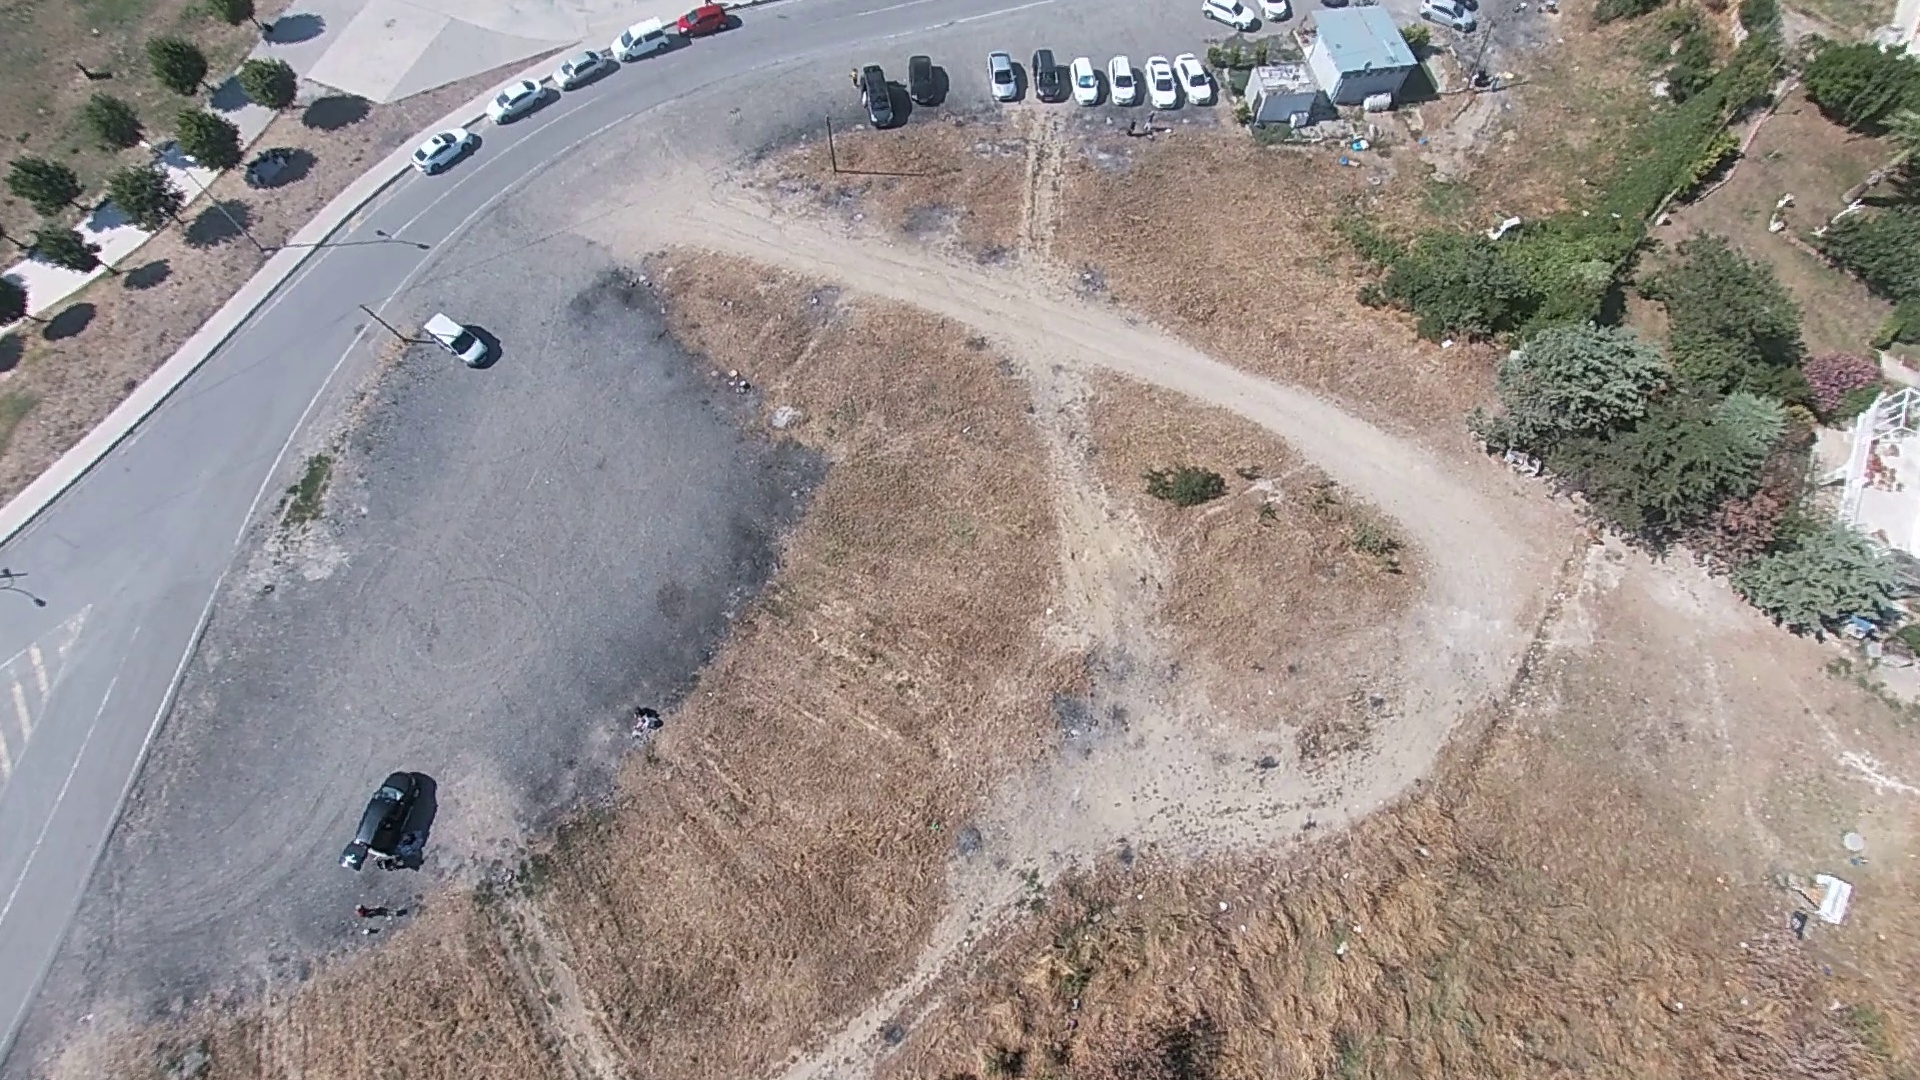araba: (340, 771, 425, 877), (423, 309, 497, 364), (415, 124, 483, 175), (487, 70, 550, 123), (855, 59, 902, 127), (613, 17, 673, 62), (1029, 46, 1069, 109), (982, 46, 1021, 108), (680, 3, 753, 34), (907, 54, 945, 109), (1178, 46, 1215, 103), (1419, 1, 1482, 34), (1065, 50, 1098, 112), (1104, 50, 1138, 109), (1204, 1, 1258, 36), (1149, 53, 1175, 108)
